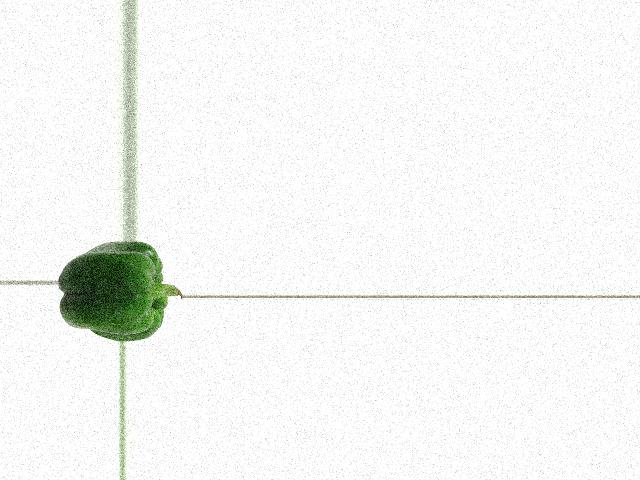bell_pepper: (57, 243, 180, 341)
